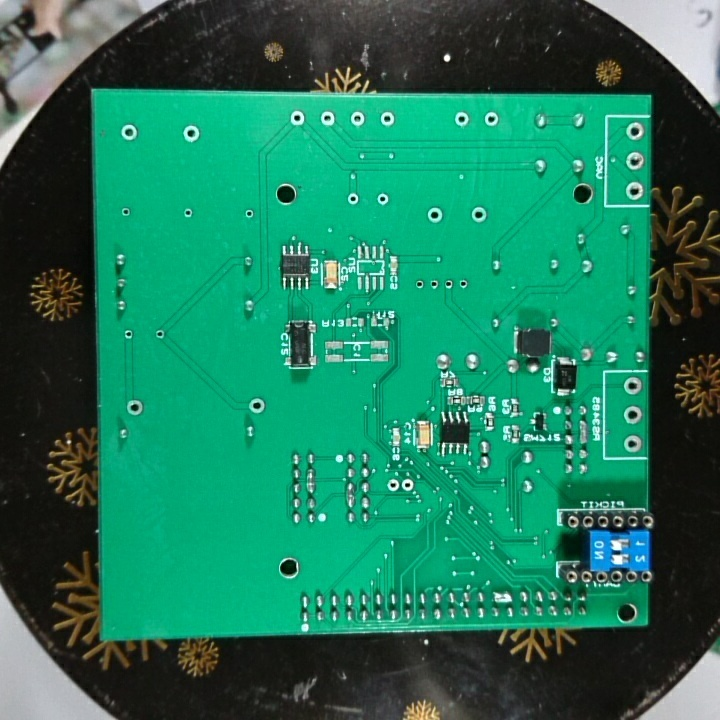F: (124, 395, 148, 420), (624, 149, 647, 173), (245, 395, 268, 417), (621, 375, 643, 397), (181, 123, 203, 145), (625, 178, 646, 200), (622, 404, 642, 427), (622, 432, 642, 455), (624, 121, 645, 141), (425, 205, 445, 226), (469, 204, 488, 226), (318, 109, 338, 129), (451, 109, 471, 129), (481, 109, 501, 129), (119, 123, 140, 142), (377, 110, 399, 128), (287, 108, 308, 126), (348, 109, 368, 127), (385, 476, 402, 496), (400, 473, 416, 494), (345, 189, 361, 209), (375, 192, 391, 209), (121, 326, 137, 343), (181, 204, 196, 222), (153, 326, 168, 343), (457, 275, 471, 291), (442, 275, 456, 291), (426, 276, 440, 292), (413, 277, 426, 294), (119, 203, 131, 221), (242, 207, 256, 221)
P: (489, 589, 515, 605), (342, 480, 356, 509), (304, 467, 318, 494), (577, 417, 590, 446)
